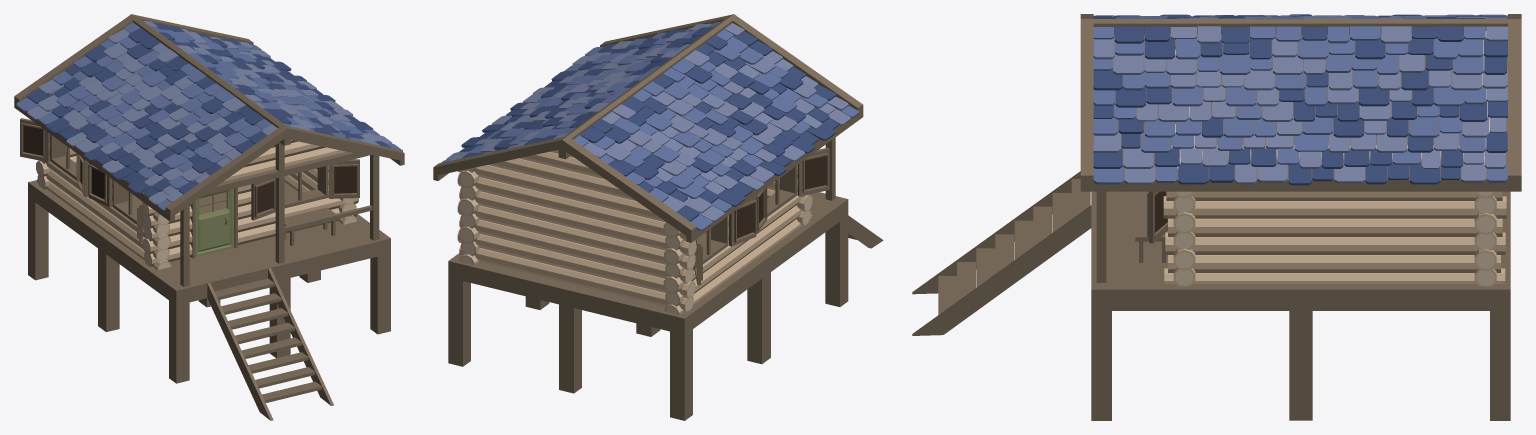
File: Shed_5.fbx
3 renders of one model, left to right at view 1: azimuth 30°, elevation 25°; view 2: azimuth 150°, elevation 25°; view 3: azimuth 270°, elevation 25°, orthographic. The views are drawn at different scales.
Visible parts, largest first — view 1: Roof_1, Shed_Deck, Logs, Roof_2, Roof_Base, Stairs, RoofStructure_1.001, Door, Pillar_3, Pillar_2, WindowFrame_Front.001, Bench (+13 smaller); view 2: Roof_1, Logs, Shed_Deck, Roof_2, Roof_Base, WindowFrame_1.001, WindowLid1_R1, WindowFrame_2.001, WindowLid1_R2, WindowLid2_R1, Stairs, Pillar_2 (+1 smaller); view 3: Roof_2, Logs, Shed_Deck, Roof_Base, Stairs, Roof_1, Pillar_3, Bench.
Boxes of the visible parts, box(x1,y1,x2,y2) form: Roof_1: box(16, 22, 277, 210); Shed_Deck: box(28, 180, 390, 383); Logs: box(36, 93, 358, 269); Roof_2: box(143, 21, 402, 151); Roof_Base: box(14, 14, 404, 221); Stairs: box(207, 268, 333, 420); RoofStructure_1.001: box(203, 137, 371, 263); Door: box(195, 188, 234, 256); Pillar_3: box(370, 154, 379, 240); Pillar_2: box(180, 205, 189, 286); WindowFrame_Front.001: box(284, 165, 328, 207); Bench: box(284, 207, 339, 245); Roof_1: box(573, 23, 859, 230); Logs: box(457, 150, 812, 314); Shed_Deck: box(448, 192, 848, 420); Roof_2: box(441, 21, 720, 162); Roof_Base: box(433, 14, 863, 242); WindowFrame_1.001: box(767, 165, 797, 216); WindowLid1_R1: box(797, 147, 829, 196); WindowFrame_2.001: box(693, 216, 728, 270); WindowLid1_R2: box(805, 156, 825, 189); WindowLid2_R1: box(729, 196, 756, 246); Stairs: box(848, 215, 883, 248); Pillar_2: box(825, 137, 835, 200); Roof_2: box(1092, 26, 1507, 185); Logs: box(1163, 31, 1506, 286); Shed_Deck: box(1091, 191, 1510, 420); Roof_Base: box(1080, 14, 1521, 191); Stairs: box(912, 171, 1091, 335); Roof_1: box(1093, 14, 1507, 18); Pillar_3: box(1096, 191, 1106, 282); Bench: box(1135, 203, 1167, 262).
Bounding box in the file's own units: 524 × 474 × 799.
